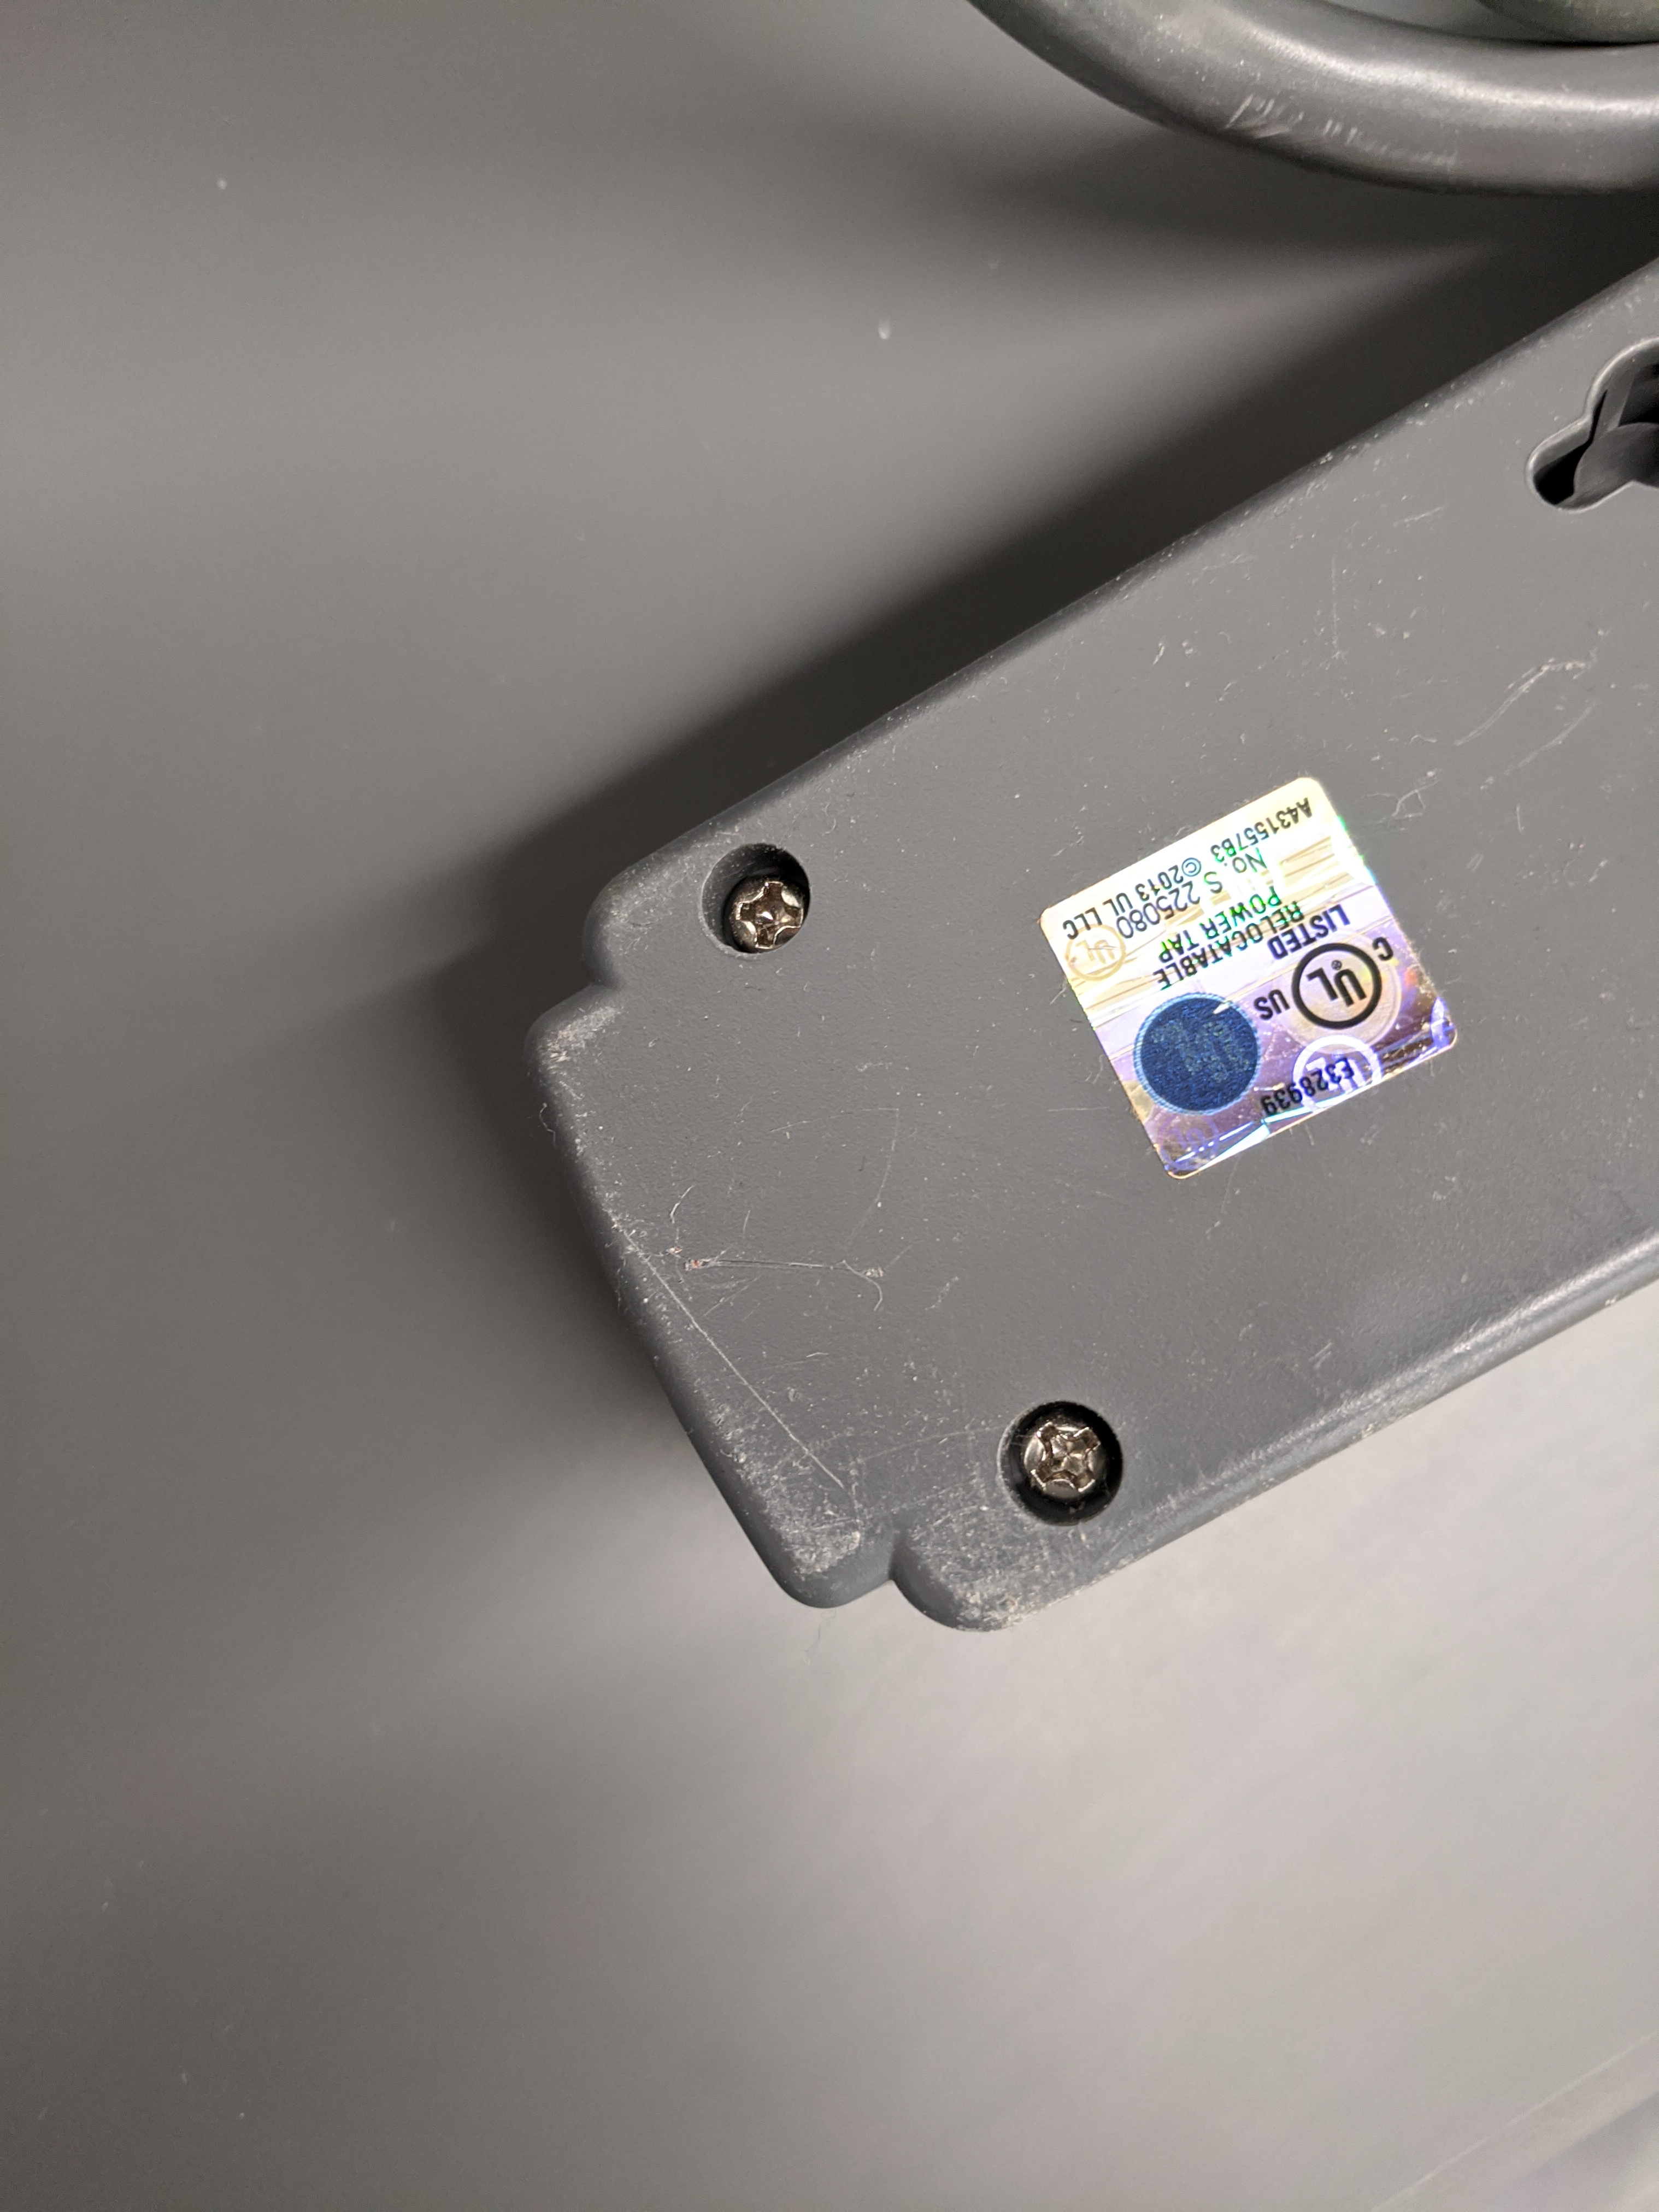cross_recessed_screw: (995, 1374, 1131, 1527), (694, 833, 826, 960)
